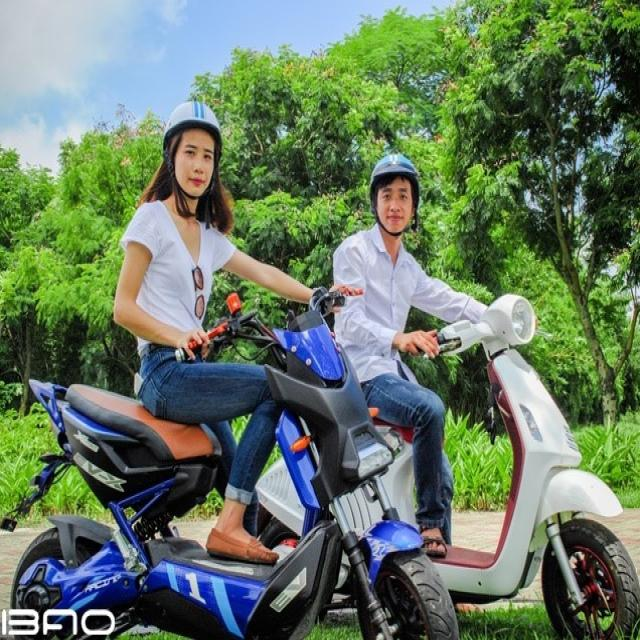1-2-helmet: (163, 101, 222, 150), (370, 154, 418, 189)
